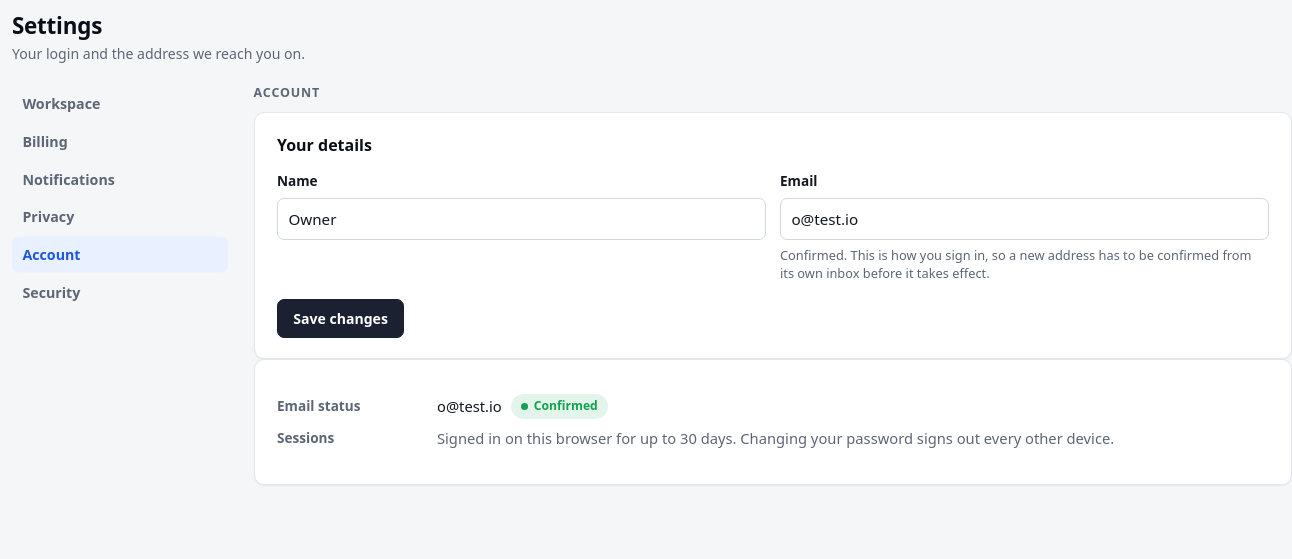
Test: Settings → Account › saves a corrected name without asking for a password
Replace the text in the field labelled "Name" with "Ada Lovelace": point(521, 219) [277, 198, 766, 240]
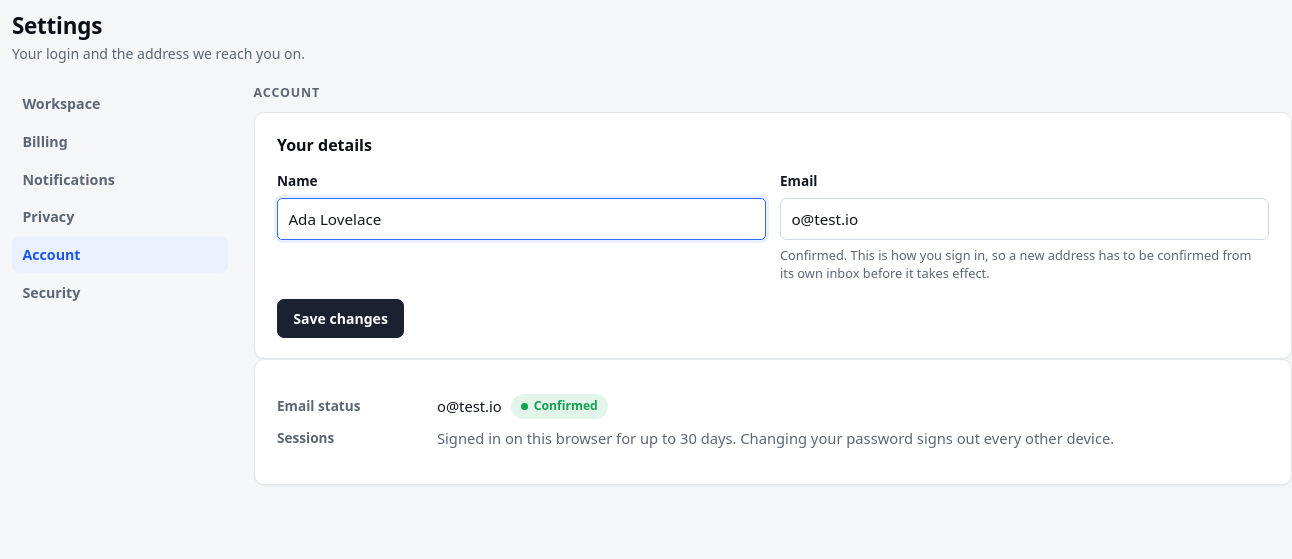
Click the button "Save changes": point(341, 318) [277, 299, 404, 338]
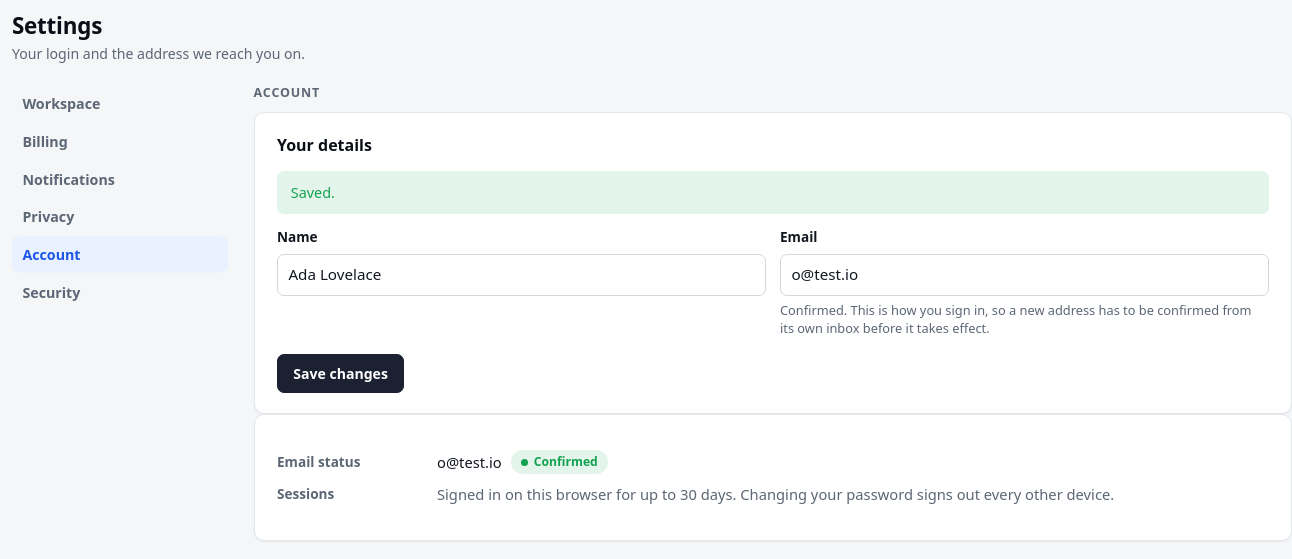
Result: the text "Saved." is shown at [277, 171, 1269, 214]
